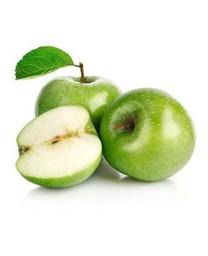apple: (98, 87, 195, 181), (16, 105, 103, 189), (34, 63, 120, 129)
